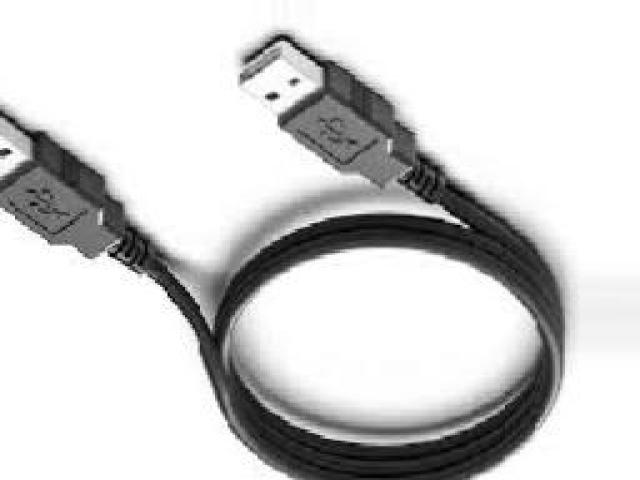wire: (0, 35, 562, 480)
